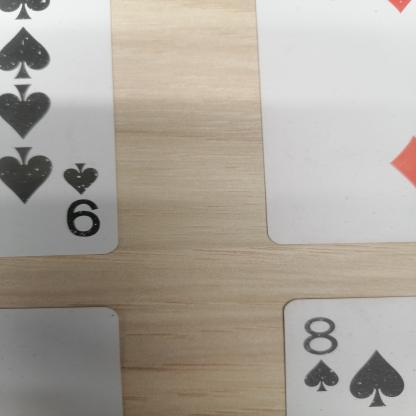8S: (298, 304, 348, 401)
9S: (48, 161, 122, 252)
